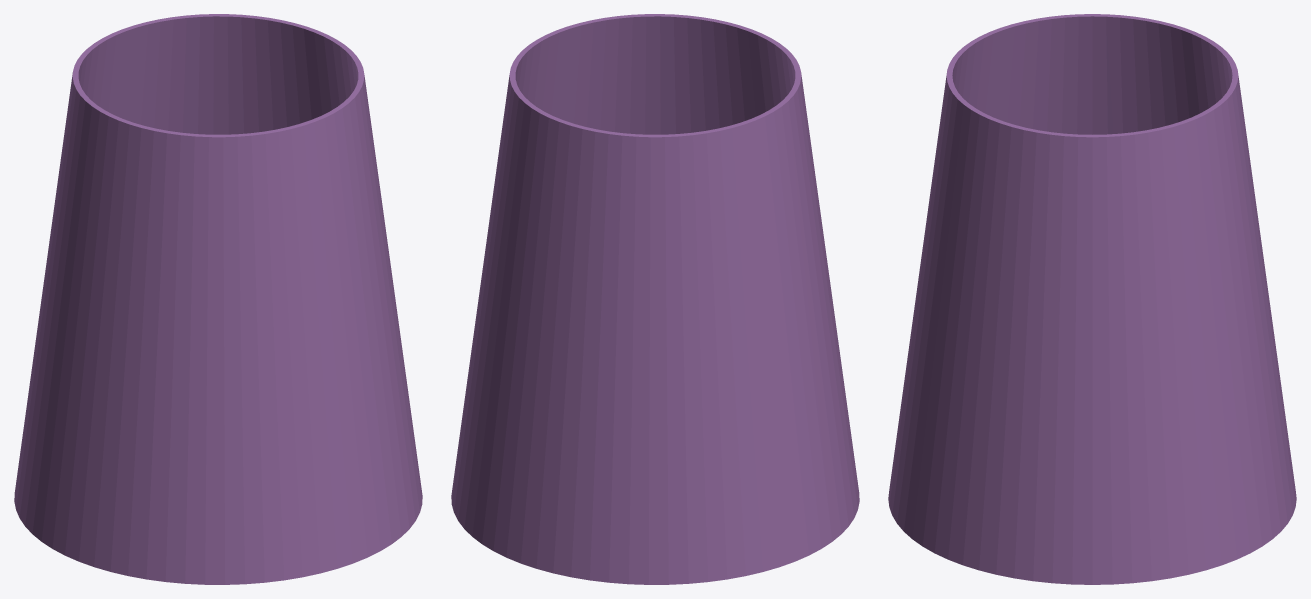
3 views of the same model, side by side, from view 1: azimuth 30°, elevation 25°; view 2: azimuth 150°, elevation 25°; view 3: azimuth 270°, elevation 25° (orthographic).
Parts seen in each view (by area): view 1: Mesh_Mesh_head_geo.001_lambert2SG.001; view 2: Mesh_Mesh_head_geo.001_lambert2SG.001; view 3: Mesh_Mesh_head_geo.001_lambert2SG.001.
Boxes of the visible parts, box(x1,y1,x2,y2) form: Mesh_Mesh_head_geo.001_lambert2SG.001: box(14, 14, 422, 584); Mesh_Mesh_head_geo.001_lambert2SG.001: box(451, 14, 859, 584); Mesh_Mesh_head_geo.001_lambert2SG.001: box(888, 14, 1296, 584).
Size of the model in its own units: 70 by 80 by 70.
